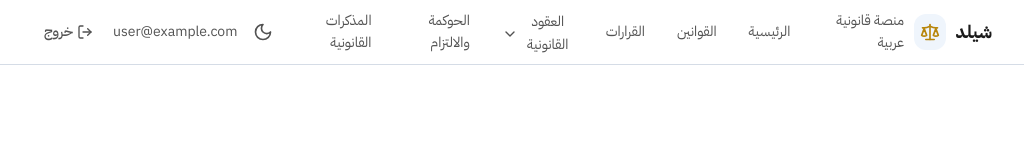
Test: Header › يسجّل الخروج: يستدعي logoutUser ويمسح الجلسة ويعود لزر «جرّب مجاناً»
Expected: the text "user@example.com" is shown, [113,21,237,43]
Click the button "خروج" at point(68, 32), box [32,10,105,54]
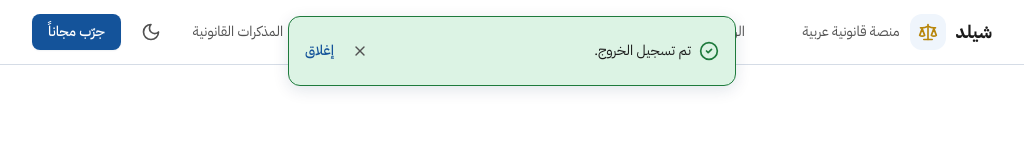
Expected: the link "جرّب مجاناً" is shown, [32,14,121,50]
Expected: the text "user@example.com" is gone
